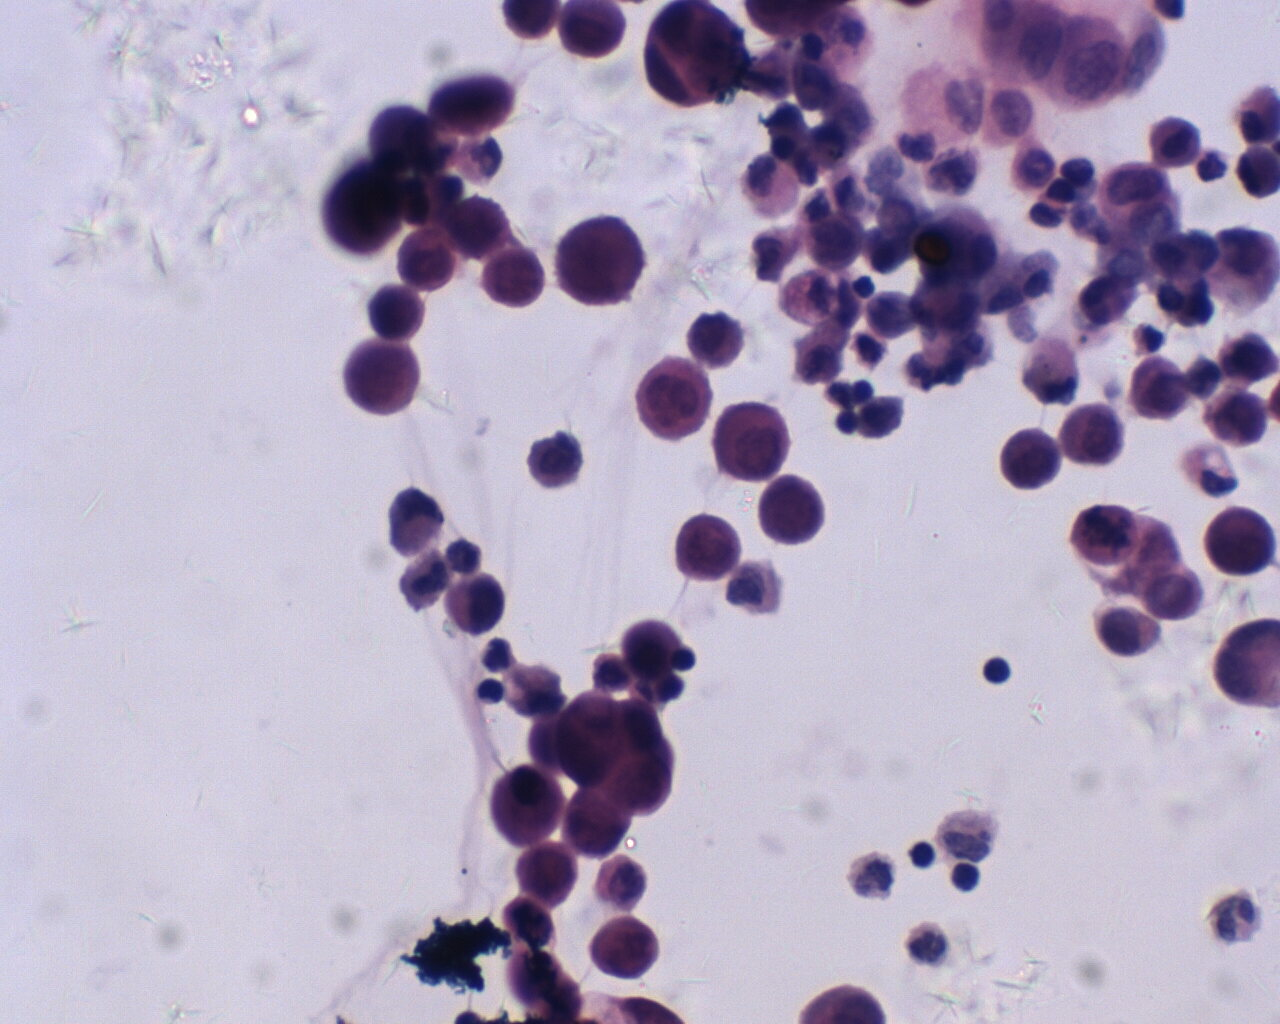ab: (551, 210, 648, 307), (633, 353, 717, 442), (711, 401, 792, 481), (489, 767, 571, 844), (344, 338, 421, 415), (1201, 504, 1276, 578), (759, 474, 828, 546), (1067, 501, 1139, 569), (507, 840, 578, 909), (674, 512, 739, 584), (1000, 422, 1058, 493), (485, 247, 546, 309)
lymph: (979, 651, 1014, 688), (907, 839, 940, 871), (950, 865, 983, 894)
